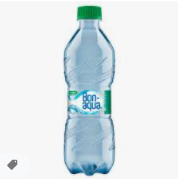Bottle: (64, 5, 115, 173)
